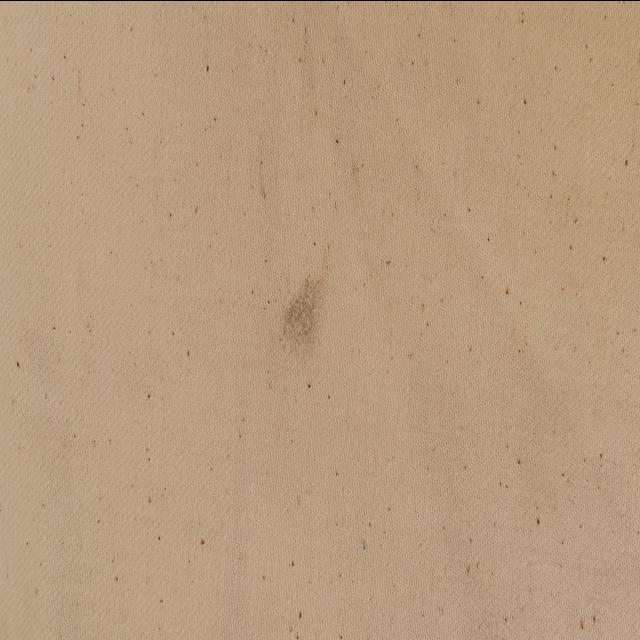taaaches: (264, 241, 348, 383)
